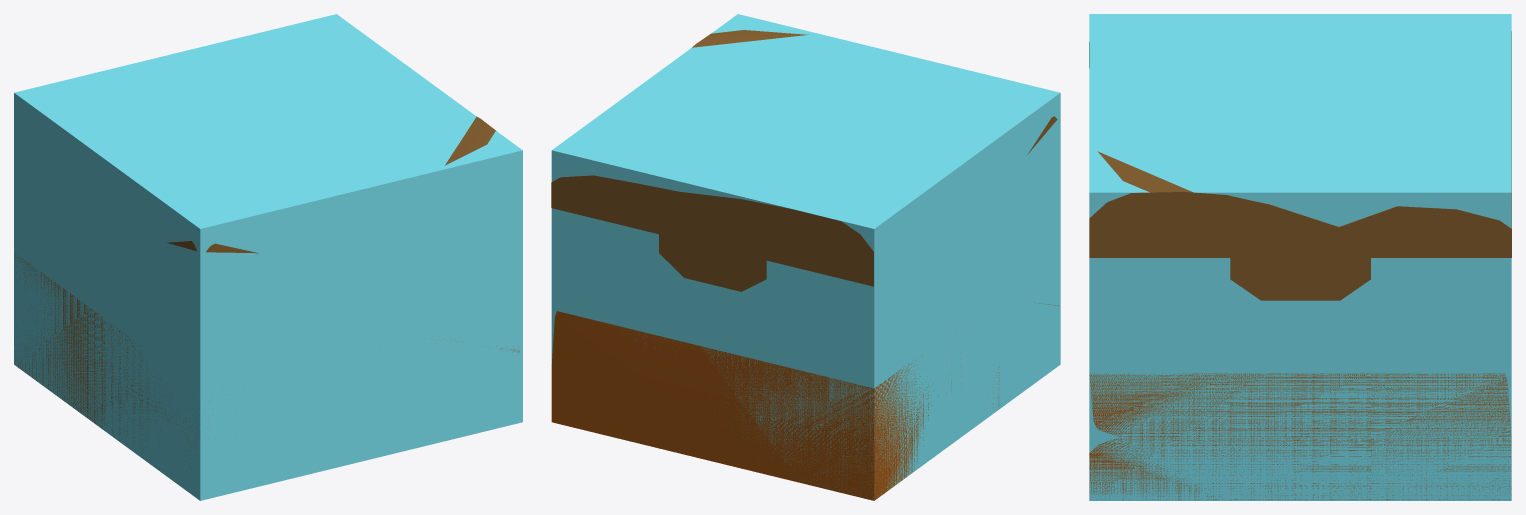
Rendered from PBOX33_Mud_01.FBX.
3 views of the same model, side by side, from view 1: azimuth 30°, elevation 25°; view 2: azimuth 150°, elevation 25°; view 3: azimuth 270°, elevation 25° (orthographic). The views are drawn at different scales.
Visible parts, largest first — view 1: PBOX33_Mud_01, PBOX33_SUB_TAB_MUD_01, PBOX33_SUB_Mud_01; view 2: PBOX33_Mud_01, PBOX33_SUB_TAB_MUD_01, PBOX33_SUB_Mud_01; view 3: PBOX33_Mud_01, PBOX33_SUB_Mud_01, PBOX33_SUB_TAB_MUD_01.
Boxes of the visible parts, bbox=[...] form: PBOX33_Mud_01: bbox=[14, 14, 522, 500]; PBOX33_SUB_TAB_MUD_01: bbox=[14, 253, 519, 467]; PBOX33_SUB_Mud_01: bbox=[167, 116, 495, 253]; PBOX33_Mud_01: bbox=[551, 14, 1060, 497]; PBOX33_SUB_TAB_MUD_01: bbox=[551, 302, 1058, 500]; PBOX33_SUB_Mud_01: bbox=[551, 30, 1057, 291]; PBOX33_Mud_01: bbox=[1089, 14, 1511, 500]; PBOX33_SUB_Mud_01: bbox=[1089, 31, 1511, 300]; PBOX33_SUB_TAB_MUD_01: bbox=[1089, 373, 1511, 500].
Bounding box in the file's own units: 18.02 × 14.53 × 18.02.
